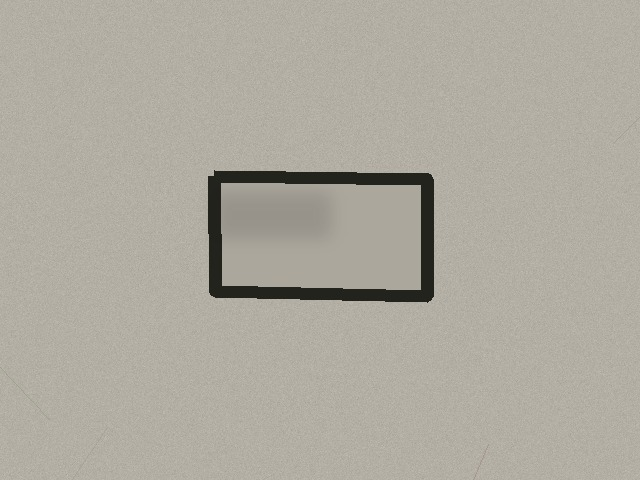parking_area: (214, 176, 427, 296)
